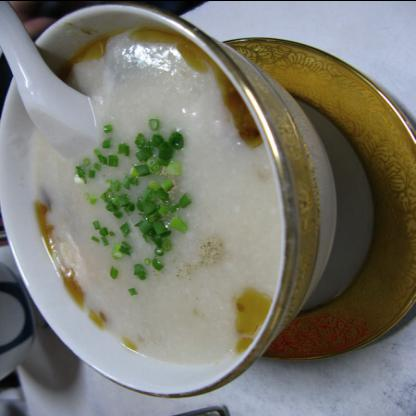Joke: (6, 11, 318, 374)
